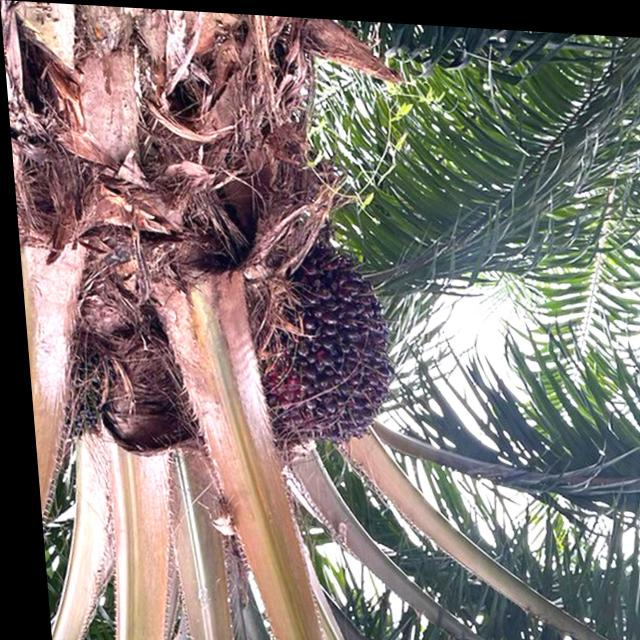ripe: (227, 214, 409, 474)
